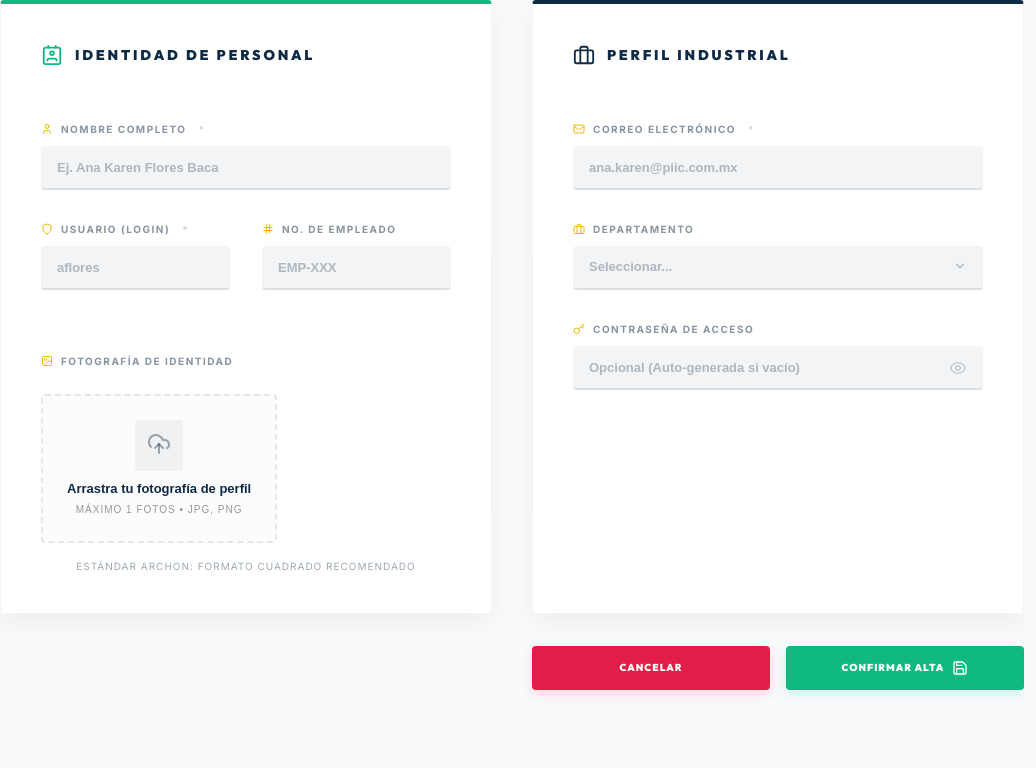
Test: UserRegistrationForm (Sentinel Identity) › handles password mismatch visual validation
This screenshot has width=1036, height=768.
Type "password123" into the password field with placeholder "Opcional (Auto-generada si vacío)" at (778,368), box [573,346,983,390]
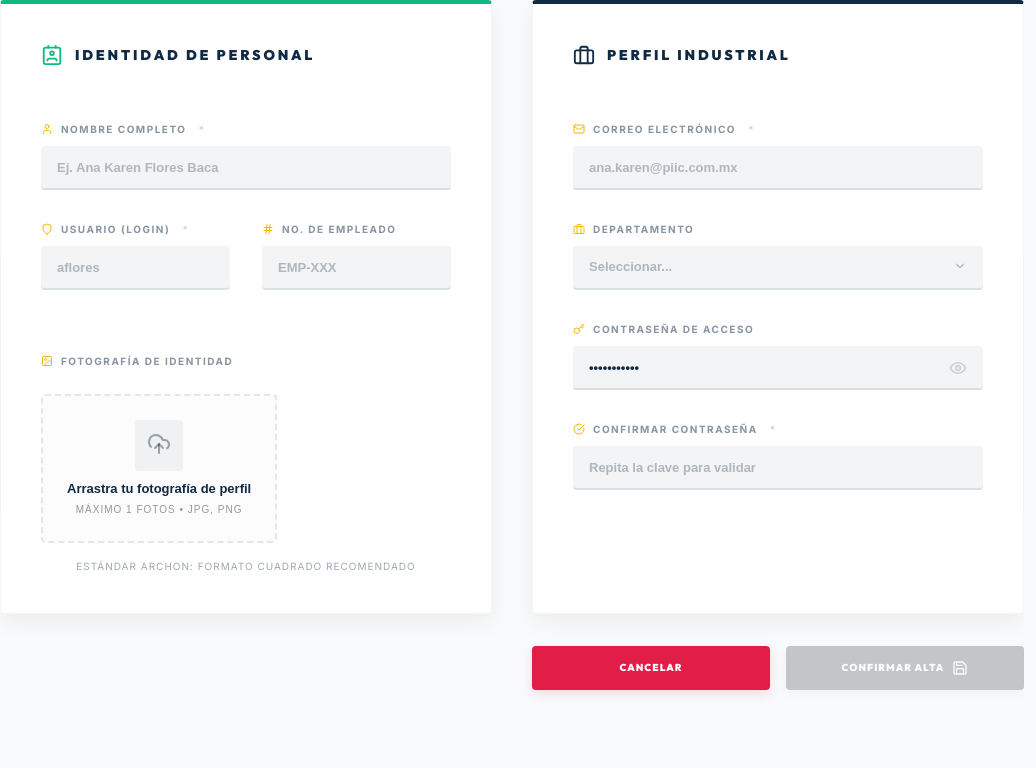
Type "mismatch" into the password field with placeholder "Repita la clave para validar" at (778,468), box [573,446,983,490]
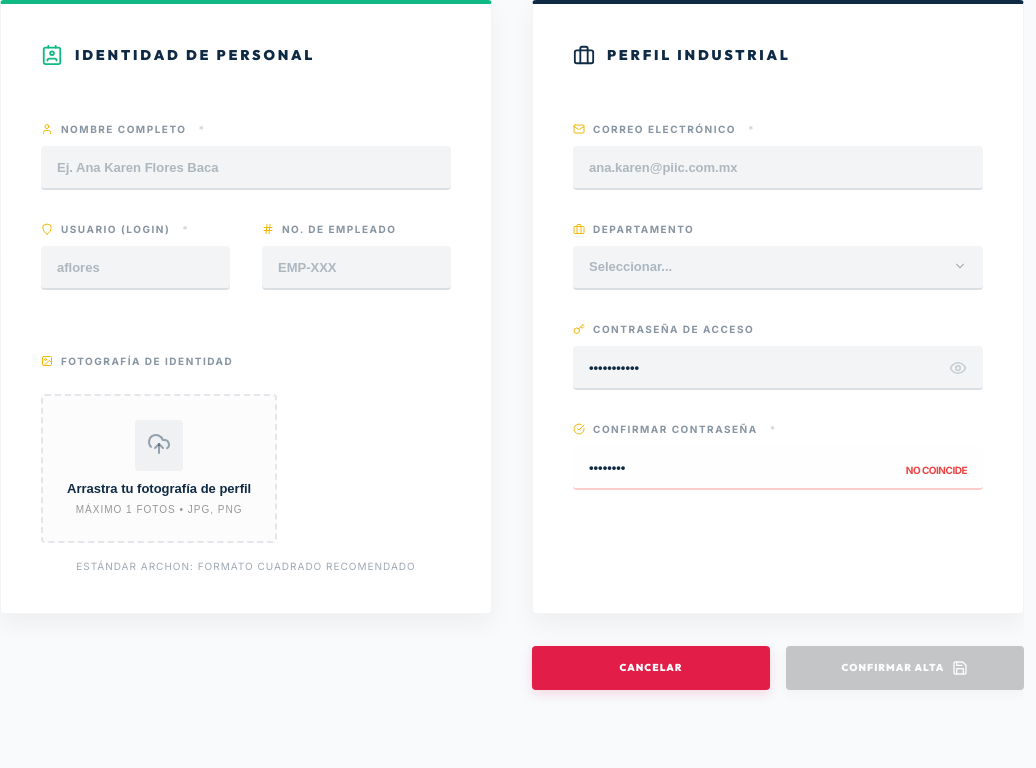
Expected: the text "No coincide" is shown, [906,464,967,476]
